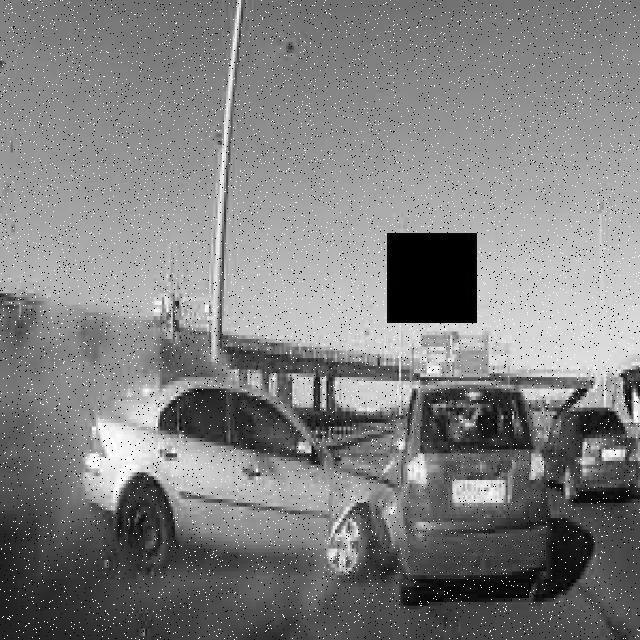accident: (78, 354, 560, 602)
vehicle: (539, 399, 640, 513)
